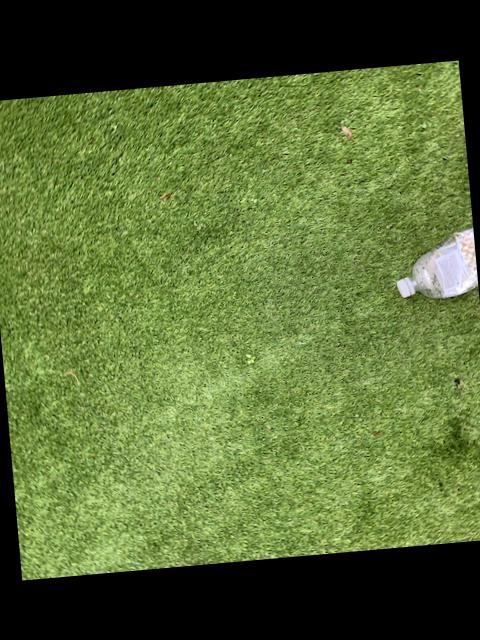plastic: (394, 227, 478, 299)
